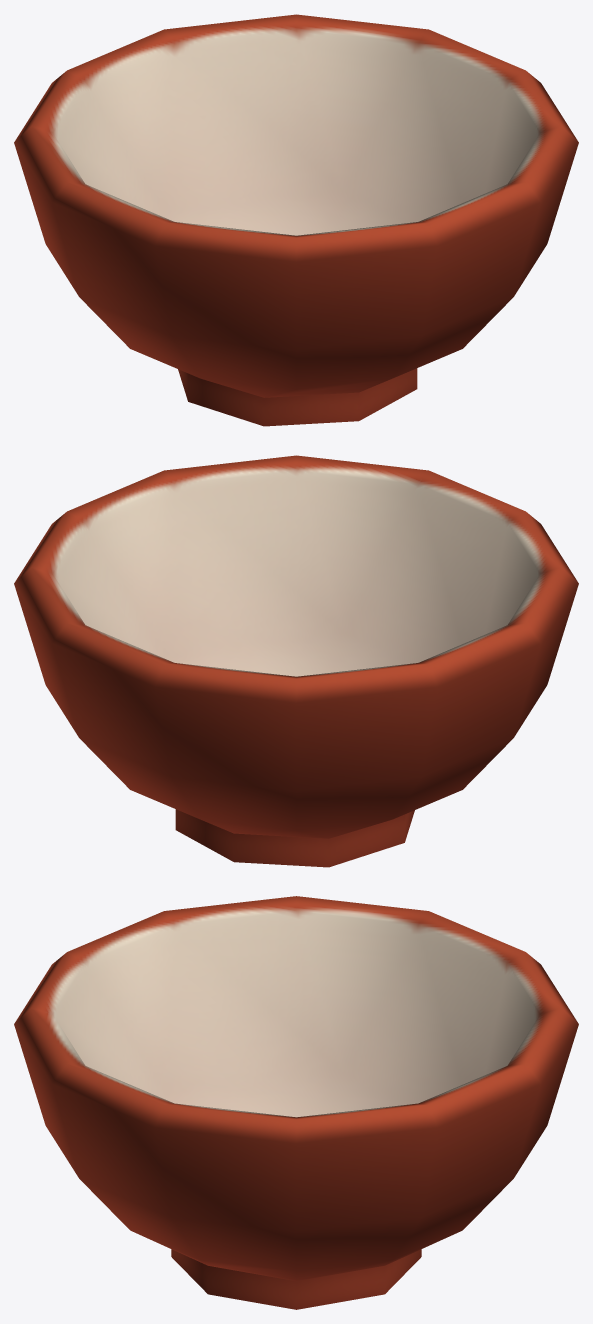
File: bowl_01.fbx
3 renders of one model, top to bottom at view 1: azimuth 30°, elevation 25°; view 2: azimuth 150°, elevation 25°; view 3: azimuth 270°, elevation 25°, orthographic.
Visible parts, largest first — view 1: bowl_01_ready; view 2: bowl_01_ready; view 3: bowl_01_ready.
Boxes of the visible parts, <box> form: bowl_01_ready: <box>14,14,578,426</box>; bowl_01_ready: <box>14,455,578,867</box>; bowl_01_ready: <box>14,896,578,1309</box>.
Size of the model in its own units: 27.98 by 13.6 by 27.98.
